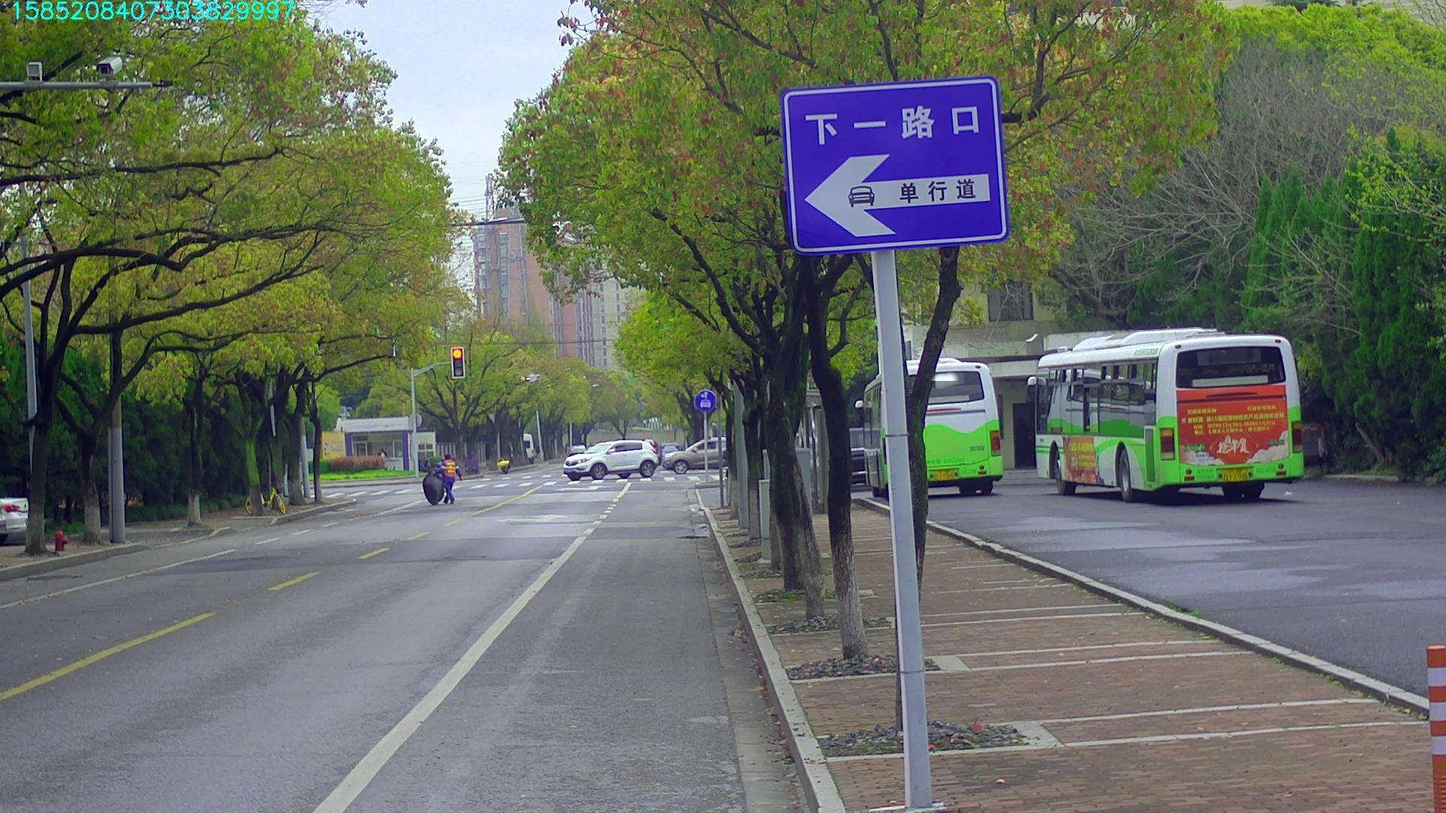red: (452, 348, 463, 377)
